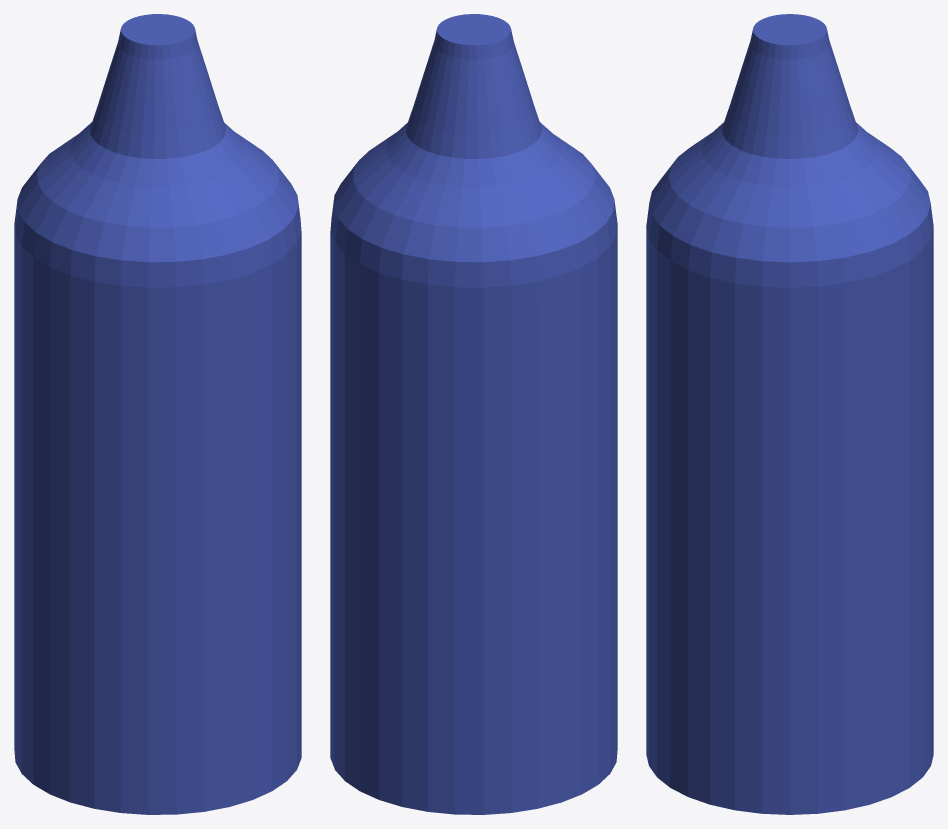
File: Bottle.fbx
3 renders of one model, left to right at view 1: azimuth 30°, elevation 25°; view 2: azimuth 150°, elevation 25°; view 3: azimuth 270°, elevation 25°, orthographic.
Parts seen in each view (by area): view 1: Cylinder; view 2: Cylinder; view 3: Cylinder.
Part boxes in pixels (bbox=[...]): Cylinder: bbox=[14, 14, 301, 814]; Cylinder: bbox=[330, 14, 617, 814]; Cylinder: bbox=[646, 14, 933, 814].
Bounding box in the file's own units: 2 × 2 × 5.56.
